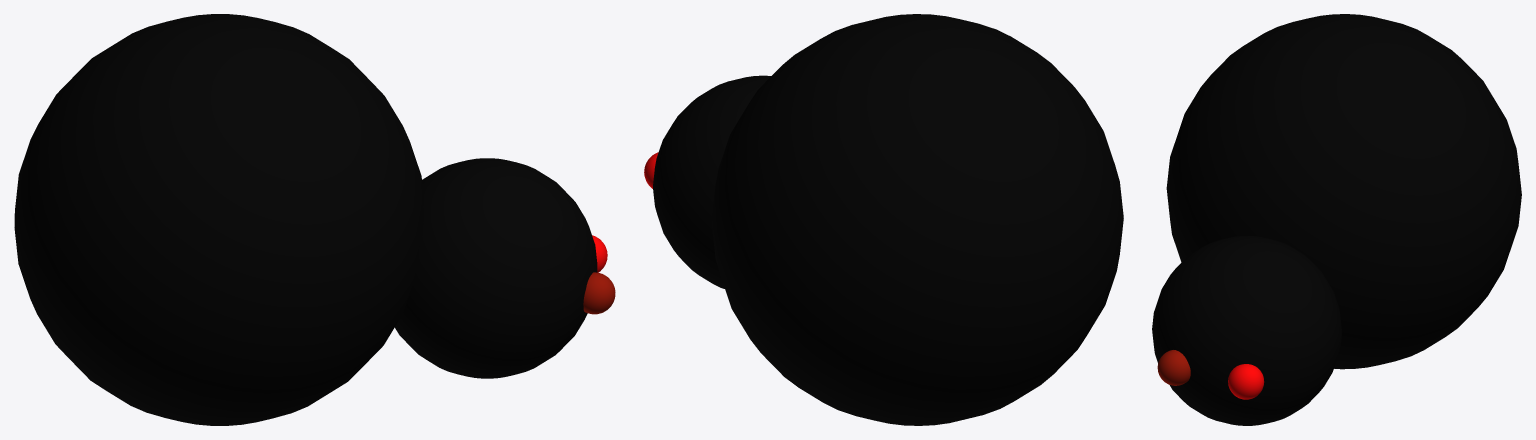
File: spider.glb
3 renders of one model, left to right at view 1: azimuth 30°, elevation 25°; view 2: azimuth 150°, elevation 25°; view 3: azimuth 270°, elevation 25°, orthographic. The views are drawn at different scales.
Visible parts, largest first — view 1: Sphere, Sphere.001, Sphere.003; view 2: Sphere, Sphere.001; view 3: Sphere, Sphere.001, Sphere.002, Sphere.003.
Boxes of the visible parts, x1=… form: Sphere: x1=14, y1=14, x2=423, y2=425; Sphere.001: x1=395, y1=158, x2=597, y2=378; Sphere.003: x1=583, y1=272, x2=615, y2=314; Sphere: x1=711, y1=14, x2=1123, y2=425; Sphere.001: x1=653, y1=75, x2=770, y2=288; Sphere: x1=1166, y1=14, x2=1521, y2=369; Sphere.001: x1=1152, y1=236, x2=1342, y2=425; Sphere.002: x1=1228, y1=364, x2=1264, y2=399; Sphere.003: x1=1157, y1=350, x2=1190, y2=385.
Size of the model in its own units: 2.83 by 2 by 2.08.
